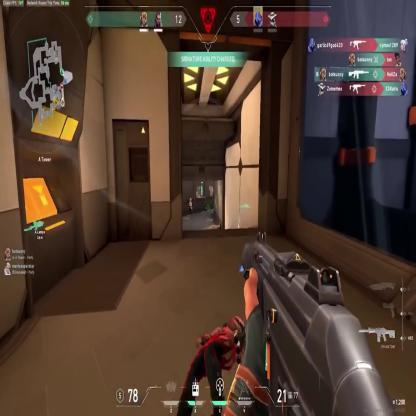enemy: (188, 196, 193, 216)
enemy_head: (190, 197, 192, 202)
